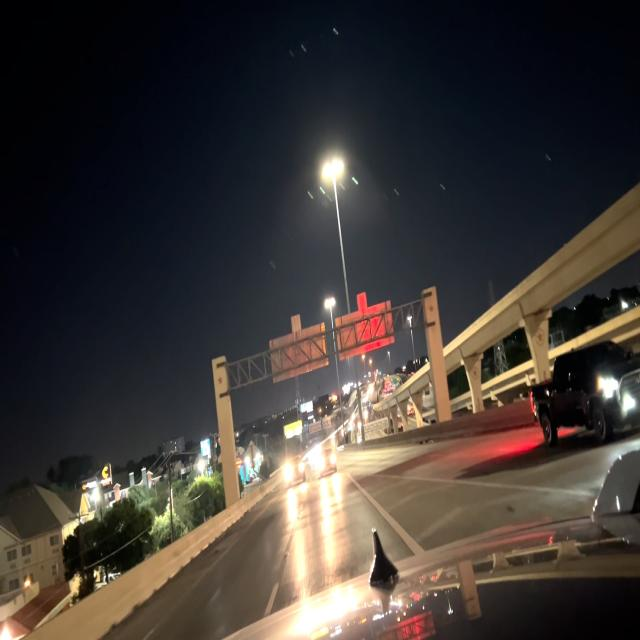back-of-sign: (336, 289, 395, 364), (268, 314, 329, 386)
